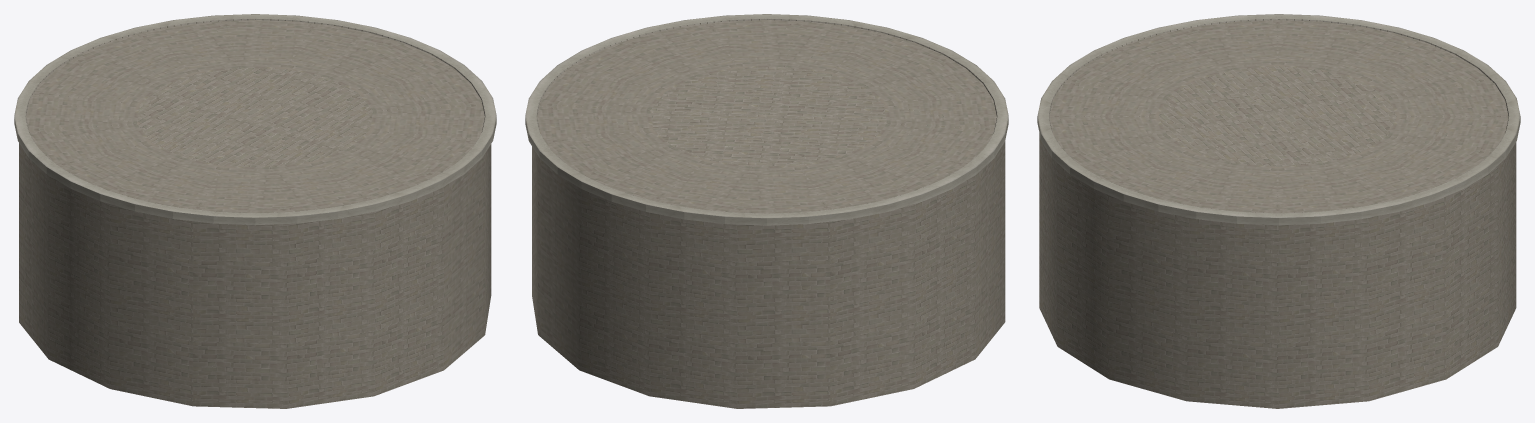
Rendered from mod_zlc_jianzhu065_xy.FBX.
3 views of the same model, side by side, from view 1: azimuth 30°, elevation 25°; view 2: azimuth 150°, elevation 25°; view 3: azimuth 270°, elevation 25° (orthographic).
Visible parts, largest first — view 1: mod_zlc_jianzhu065_xy; view 2: mod_zlc_jianzhu065_xy; view 3: mod_zlc_jianzhu065_xy.
Part boxes in pixels (<box>): mod_zlc_jianzhu065_xy: <box>14,14,496,408</box>; mod_zlc_jianzhu065_xy: <box>525,14,1008,408</box>; mod_zlc_jianzhu065_xy: <box>1037,14,1520,408</box>.
Size of the model in its own units: 10483 by 4614 by 10483.
